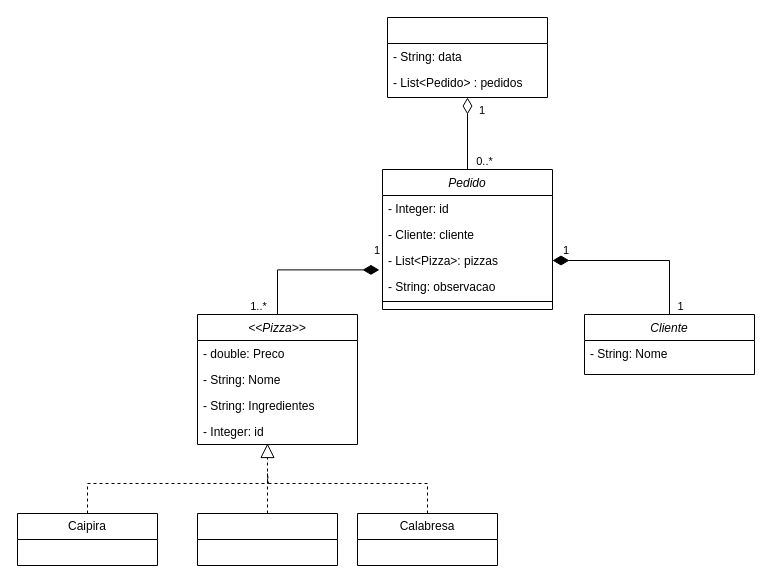
The diagram is 772 pixels wide and 583 high, and some of its shapes have lost their labels. Here are the shapes that lost their labels. From the top down, the box of each, then its label:
(386, 16, 548, 98): DiaTrabalho
(196, 512, 338, 566): FrangoComCatupiry
